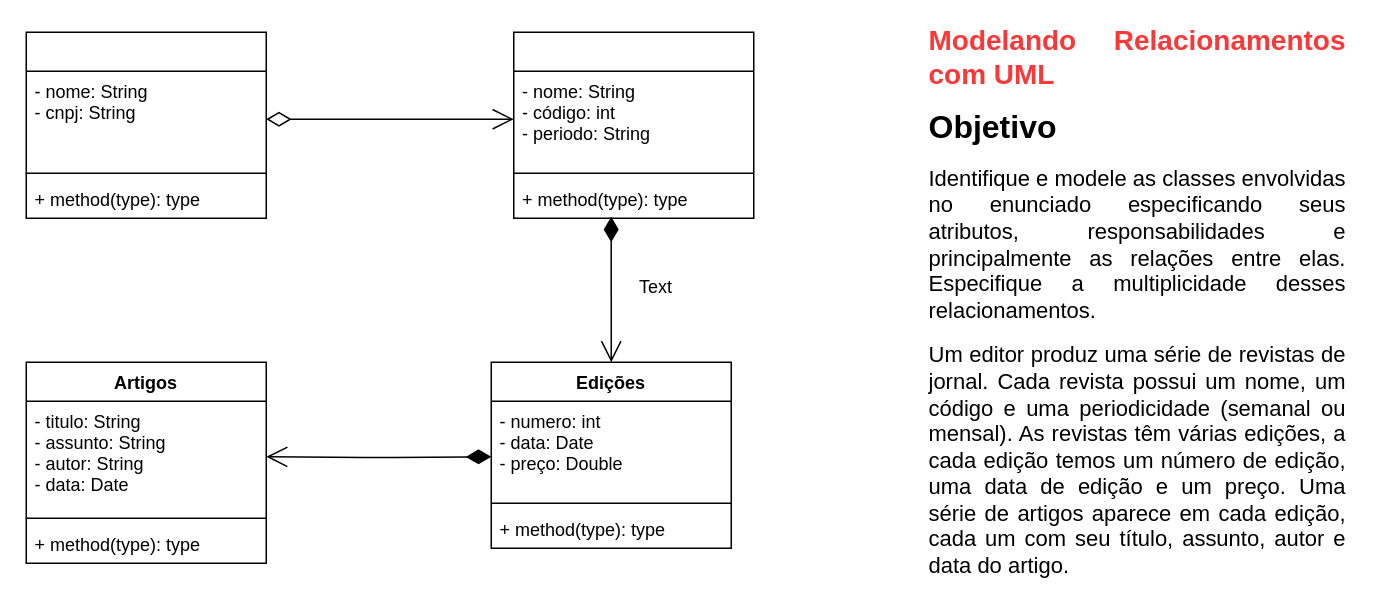
This 1373x603 diagram has some shape labels left out. The box of each missing label's shape, as (x1, y1, x2, y2) in pixels:
Editora: (25, 31, 266, 218)
Revistas: (512, 31, 754, 218)
